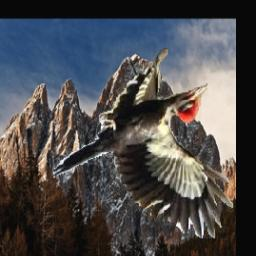Woodpecker: (52, 48, 233, 238)
